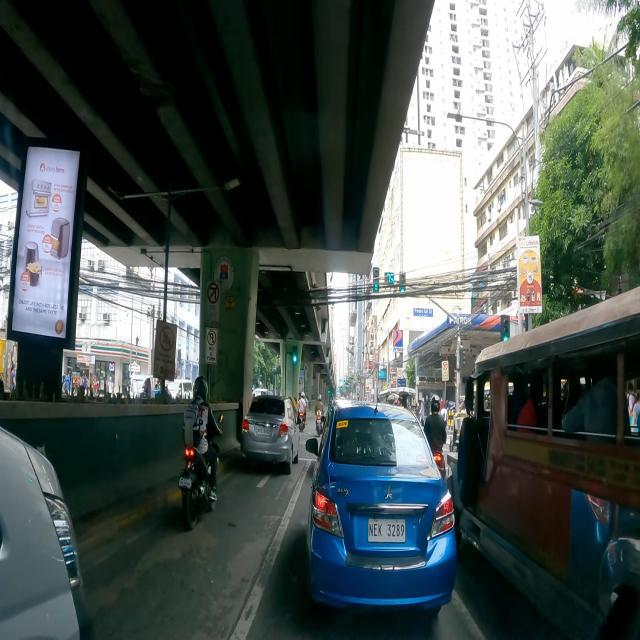car: (306, 402, 457, 614), (0, 426, 93, 639), (240, 394, 300, 472)
jeepney: (453, 286, 640, 640), (378, 387, 416, 413)
motorcycle: (178, 376, 222, 529), (424, 398, 446, 480), (315, 398, 324, 436), (298, 392, 306, 432)
